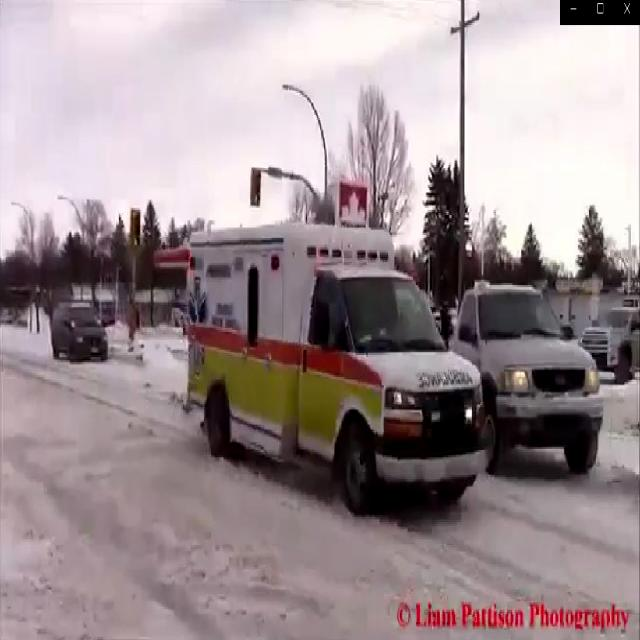emergency: (185, 207, 490, 527)
